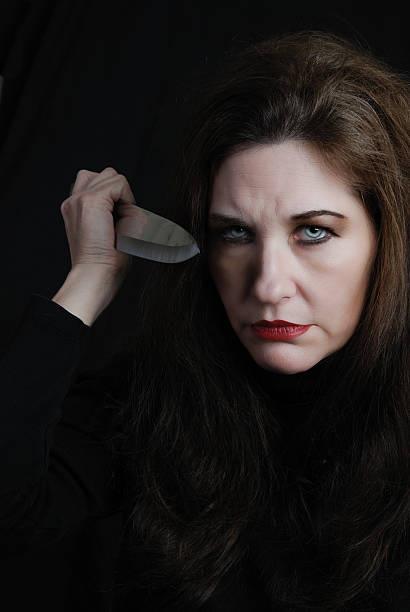knife: (112, 199, 199, 267)
